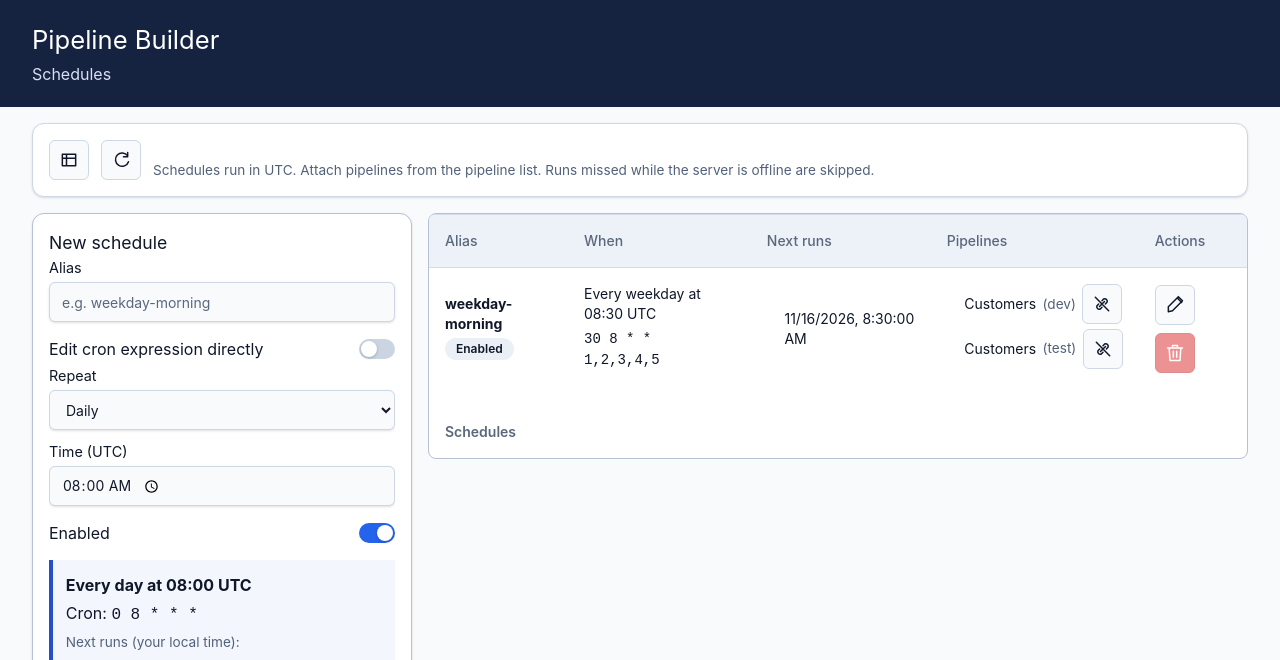
Test case: lists the same pipeline once per environment and removes only the chosen environment
Expected: the table "Schedules" is shown, top-left (429, 214), bottom-right (1247, 458)
Expected: the button named "Remove Customers (dev) from weekday-morning" is shown, top-left (1082, 284), bottom-right (1122, 324)
Click the button named "Remove Customers (test) from weekday-morning".
click(1103, 349)  # box top-left (1083, 329), bottom-right (1123, 369)
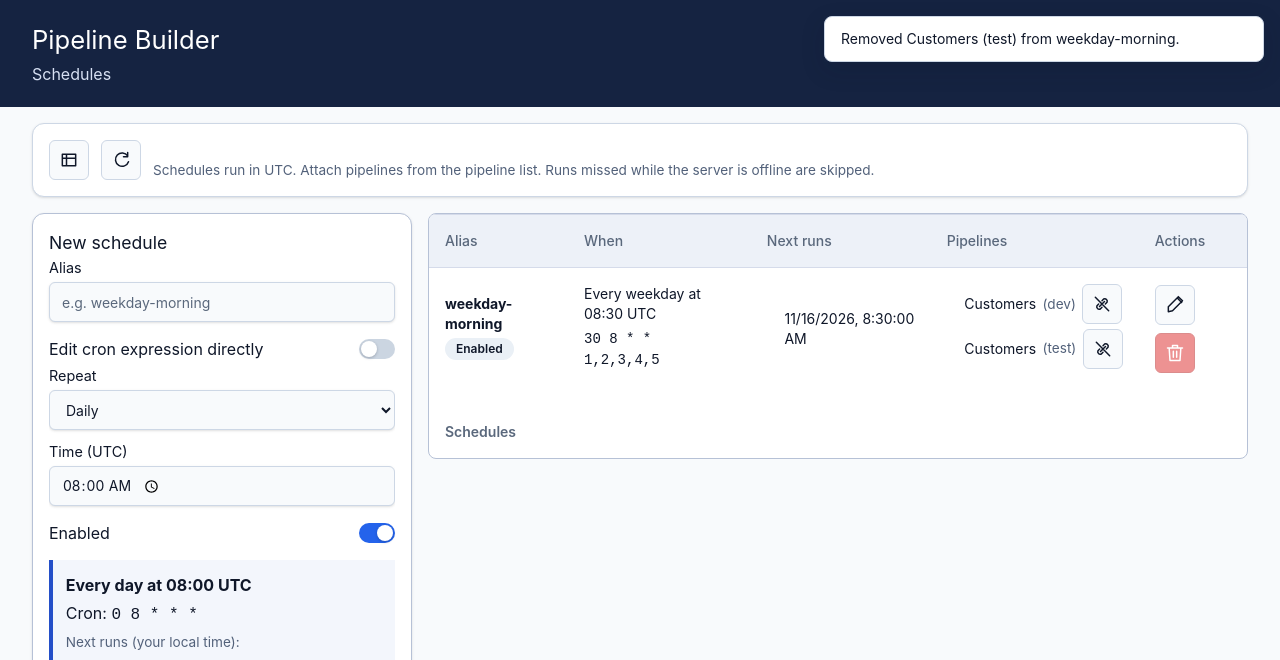
Now the text "Removed Customers (test) from weekday-morning." is shown, box top-left (824, 16), bottom-right (1264, 62)
